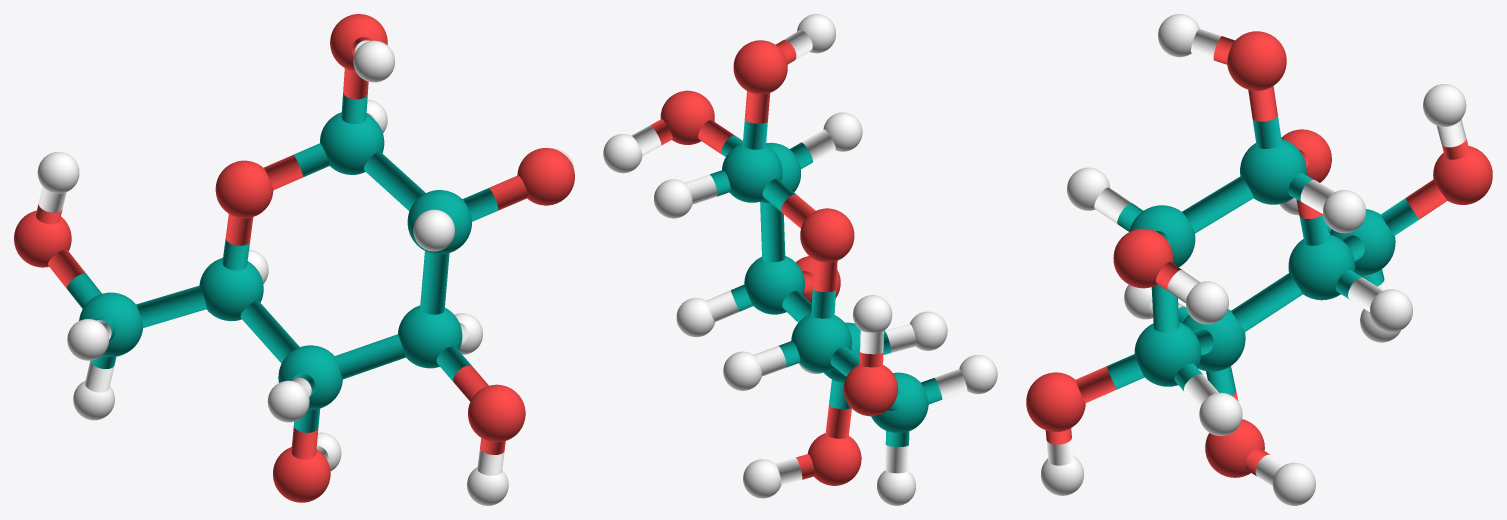
File: molecule_brillant.gltf
The picture shows the model from 3 angles, left to right: view 1: azimuth 30°, elevation 25°; view 2: azimuth 150°, elevation 25°; view 3: azimuth 270°, elevation 25°; orthographic projection. The views are drawn at different scales.
Parts seen in each view (by area): view 1: Object_3, Object_6, Object_4, Object_8, Object_5, Object_7, Object_2; view 2: Object_8, Object_3, Object_6, Object_5, Object_7, Object_4; view 3: Object_3, Object_8, Object_6, Object_5, Object_7, Object_4, Object_2.
Part boxes in pixels (x1,y1,x2,y2): Object_3: (79, 112, 462, 409); Object_6: (48, 37, 527, 502); Object_4: (67, 92, 498, 432); Object_8: (38, 40, 504, 475); Object_5: (14, 14, 574, 267); Object_7: (37, 40, 573, 505); Object_2: (364, 152, 425, 211); Object_8: (631, 30, 997, 485); Object_3: (722, 143, 928, 446); Object_6: (650, 40, 861, 485); Object_5: (660, 40, 897, 416); Object_7: (603, 14, 915, 505); Object_4: (710, 120, 942, 410); Object_3: (1134, 139, 1395, 390); Object_8: (1046, 28, 1466, 485); Object_6: (1026, 36, 1447, 477); Object_5: (1113, 31, 1492, 288); Object_7: (1041, 14, 1466, 505); Object_4: (1107, 114, 1419, 395); Object_2: (1182, 176, 1253, 233).
Bounding box in the file's own units: 6.38 × 6.28 × 5.45.
